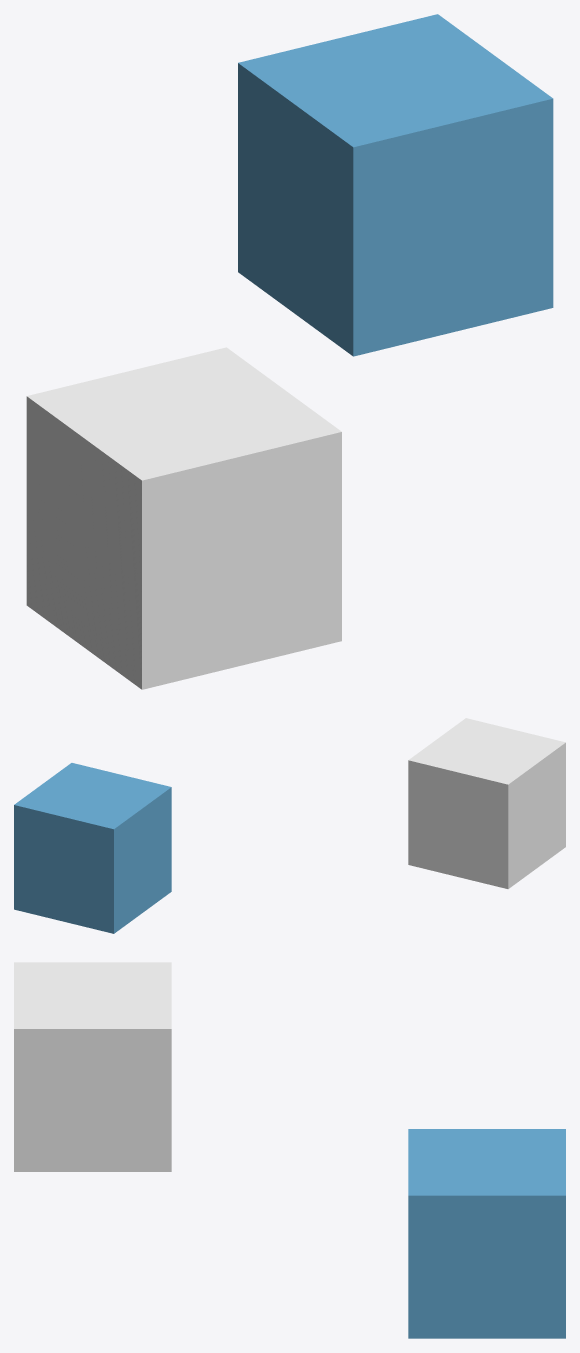
3 renders of one model, top to bottom at view 1: azimuth 30°, elevation 25°; view 2: azimuth 150°, elevation 25°; view 3: azimuth 270°, elevation 25°, orthographic. The views are drawn at different scales.
Visible parts, largest first — view 1: Block, Enemy0; view 2: Block, Enemy0; view 3: Block, Enemy0.
Boxes of the visible parts, x1=… form: Block: x1=26, y1=347, x2=341, y2=689; Enemy0: x1=238, y1=14, x2=553, y2=356; Block: x1=408, y1=718, x2=565, y2=888; Enemy0: x1=14, y1=763, x2=171, y2=933; Block: x1=14, y1=962, x2=171, y2=1171; Enemy0: x1=408, y1=1129, x2=565, y2=1338.
Size of what is drawn, in the model's own units: 2.8 by 2.8 by 0.8.
